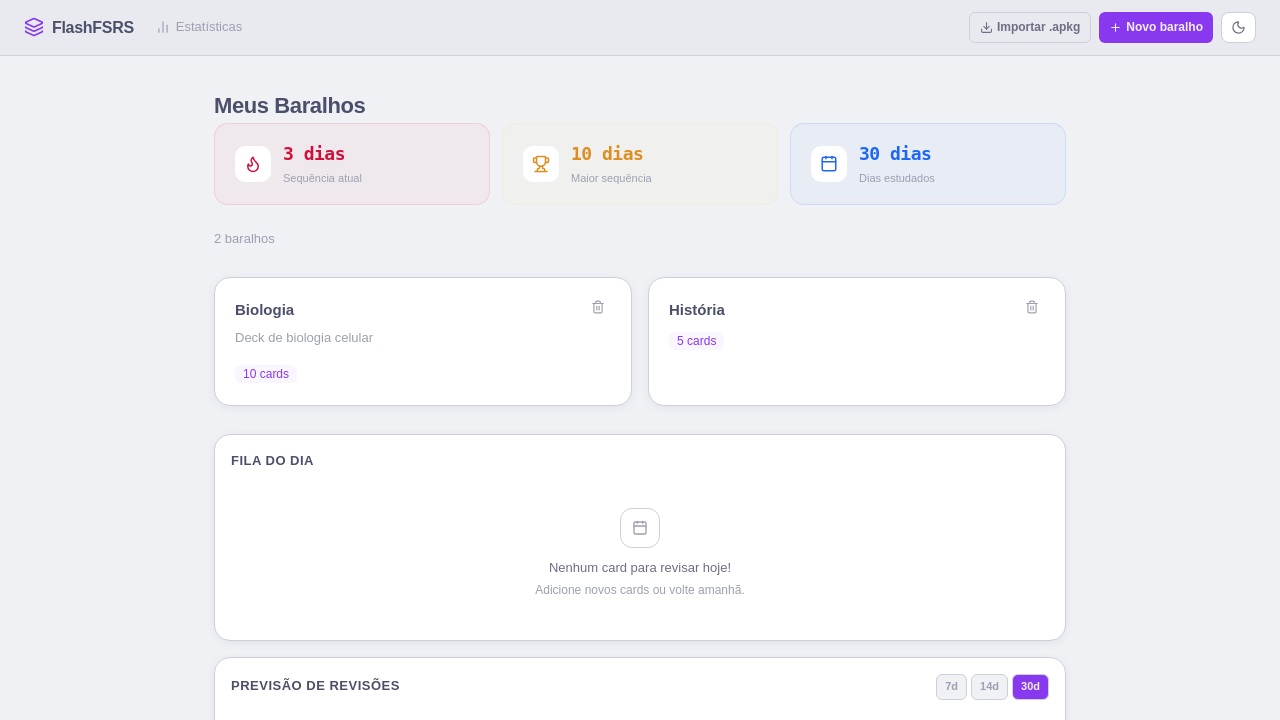
Test: DashboardPage › permite criar um novo baralho
expect the heading "Biologia" is shown: met, box top-left (235, 298), bottom-right (294, 322)
Click the button "Novo baralho" at (1156, 28), box top-left (1099, 12), bottom-right (1213, 43)
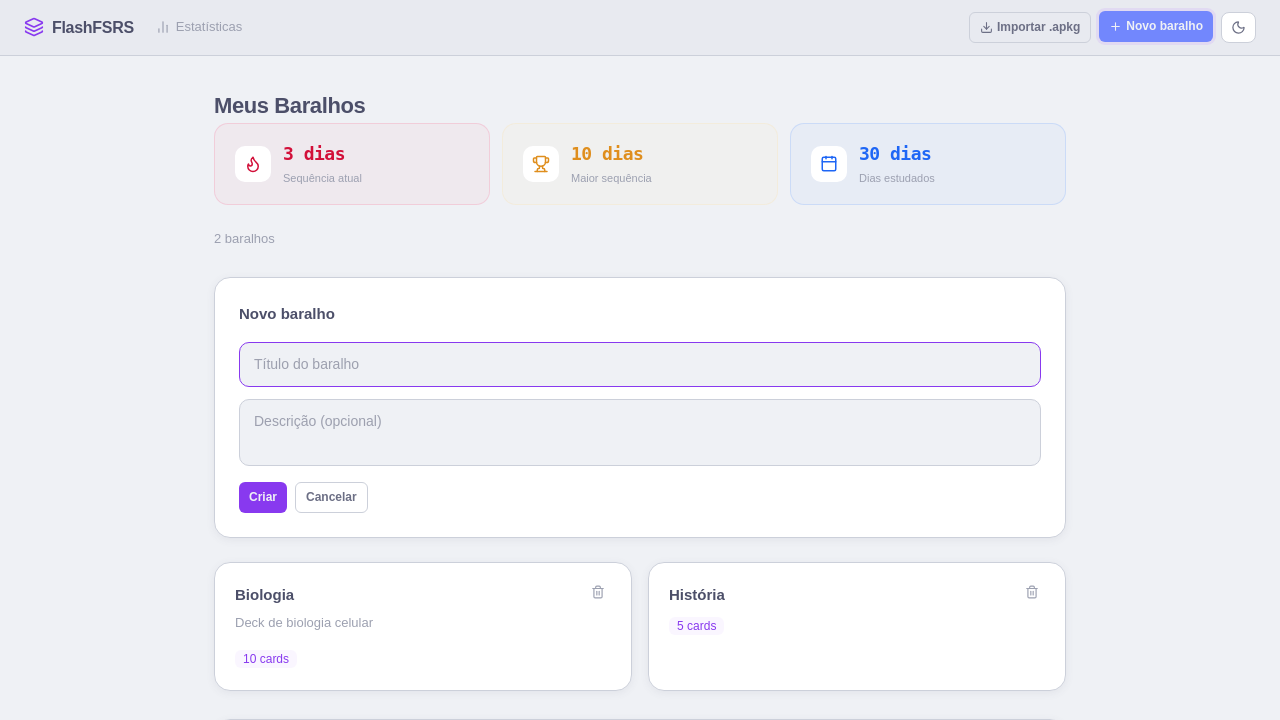
Type "Novo Deck" into the field with placeholder "Título do baralho" at (640, 365), box top-left (239, 342), bottom-right (1041, 387)
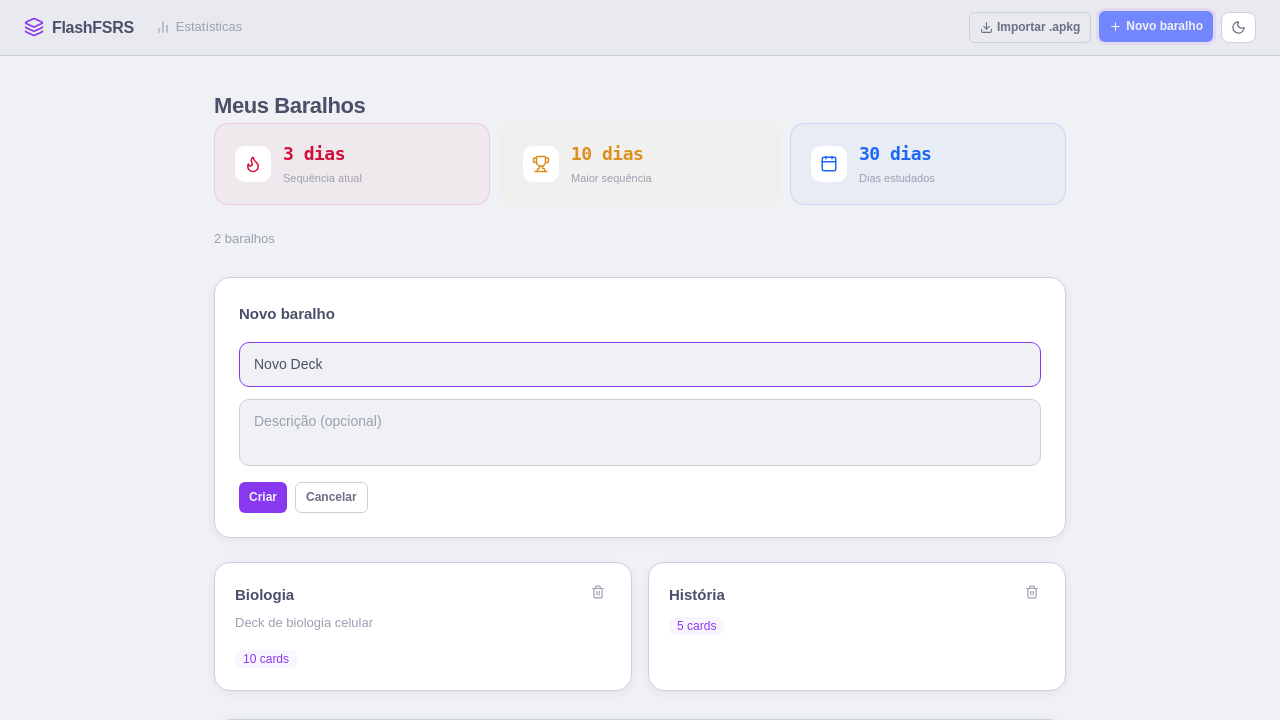
Type "Descrição" into the text box with placeholder "Descrição (opcional)" at (640, 432), box top-left (239, 399), bottom-right (1041, 466)
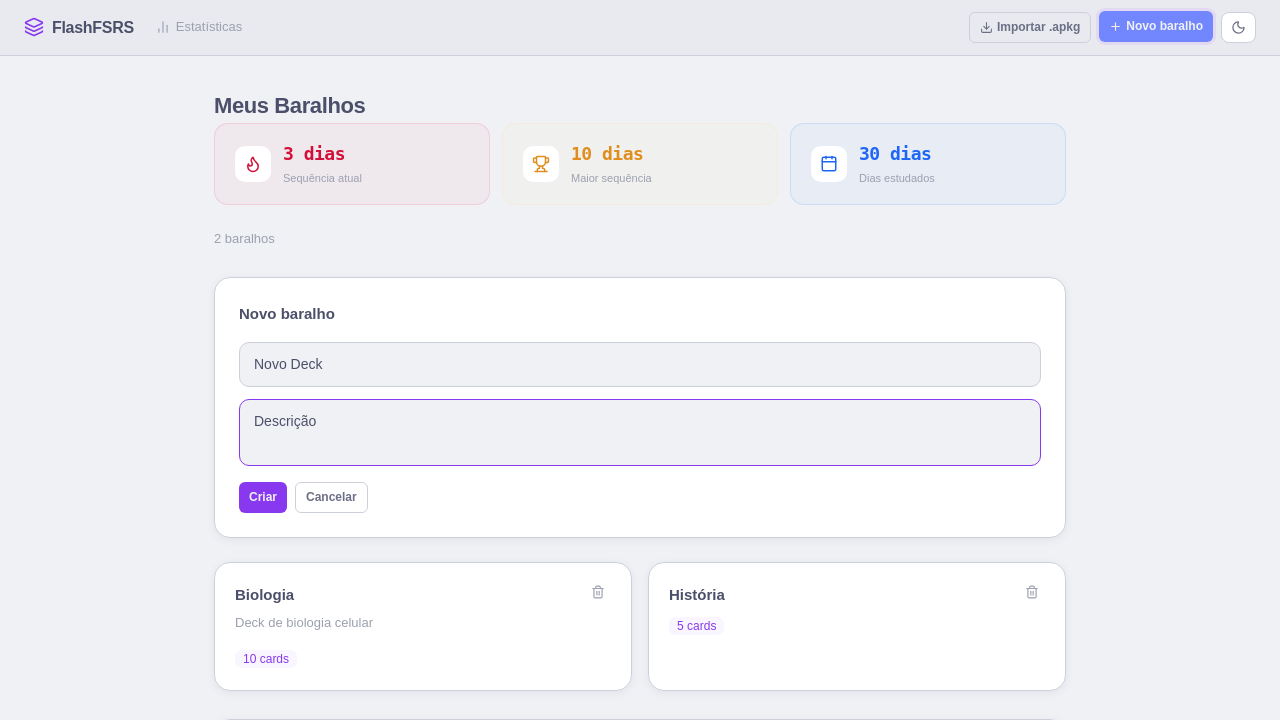
Click the button "Criar" at (263, 497), box top-left (239, 482), bottom-right (287, 513)
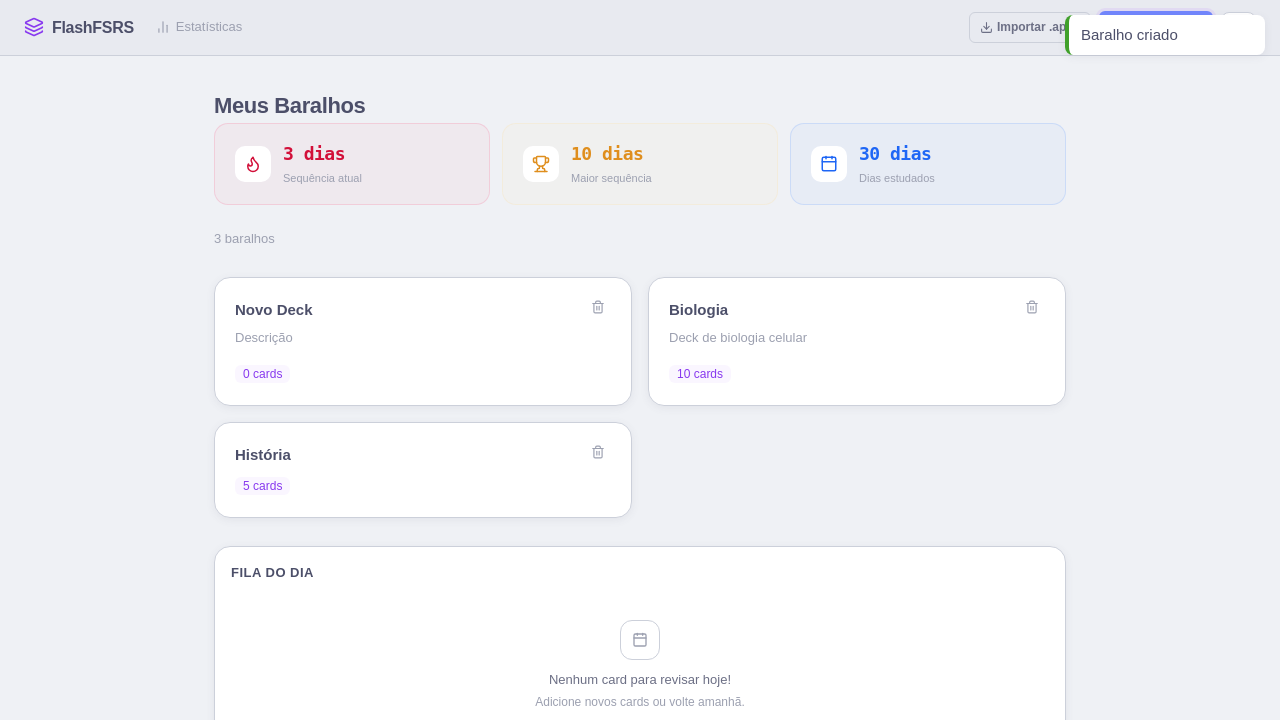
expect the heading "Novo Deck" is shown: met, box top-left (235, 298), bottom-right (312, 322)
